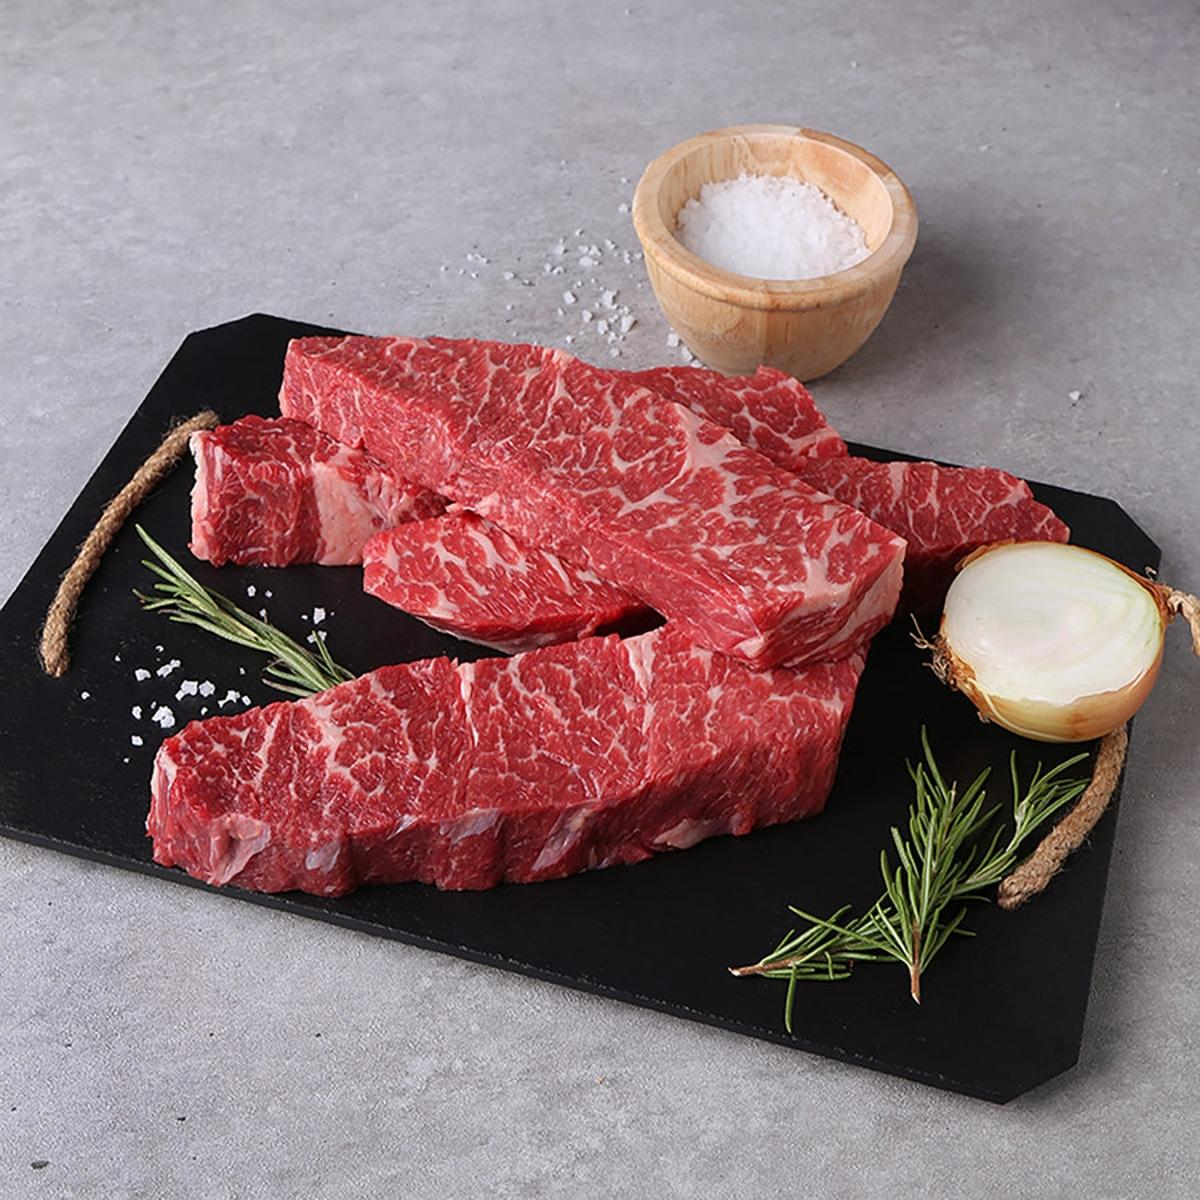beef: (531, 598, 1200, 1200), (334, 953, 1200, 1200)
